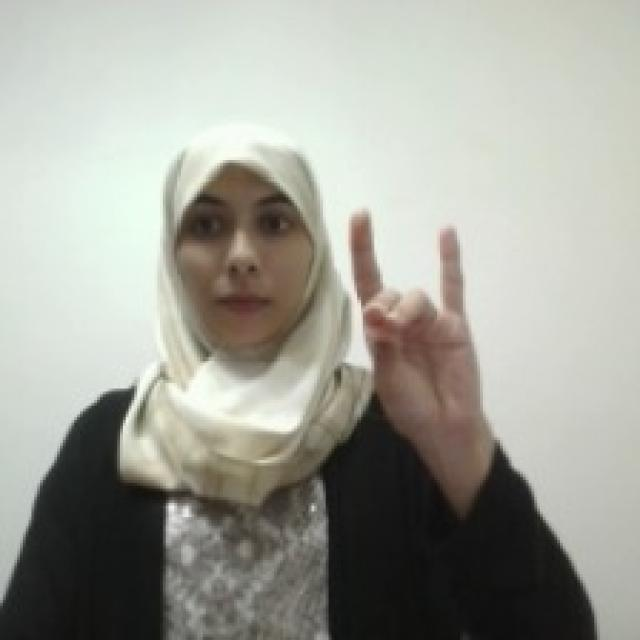Dog: (341, 198, 488, 436)
